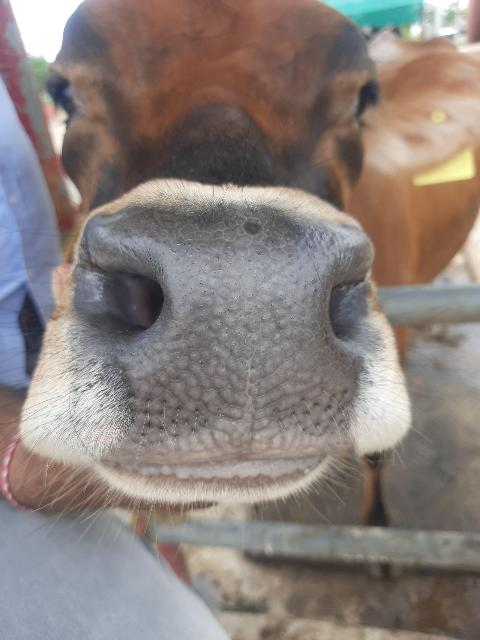Muzzle: (89, 214, 351, 462)
